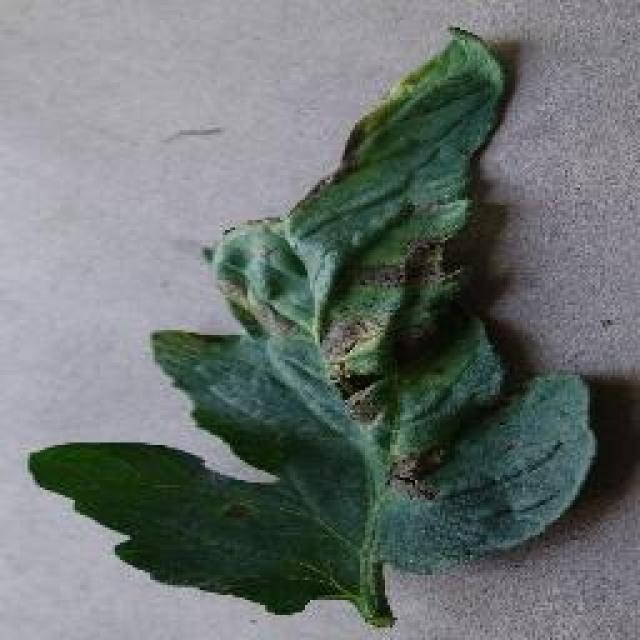Tomato_Early_Blight: (209, 50, 583, 534)
